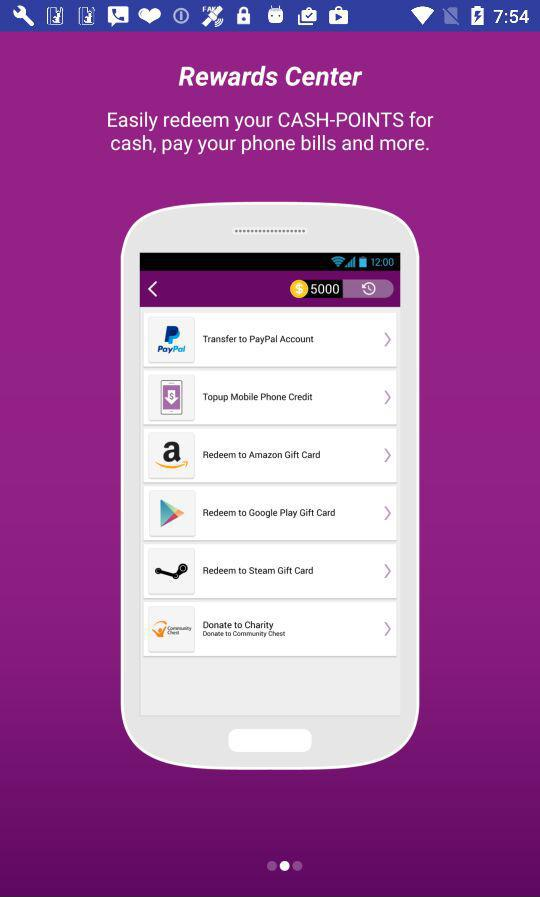Image: (121, 202, 420, 771)
PageIndicator: (266, 860, 304, 872)
Text: (108, 112, 434, 156), (179, 66, 363, 89)
UpperTaskBar: (1, 1, 540, 33)
